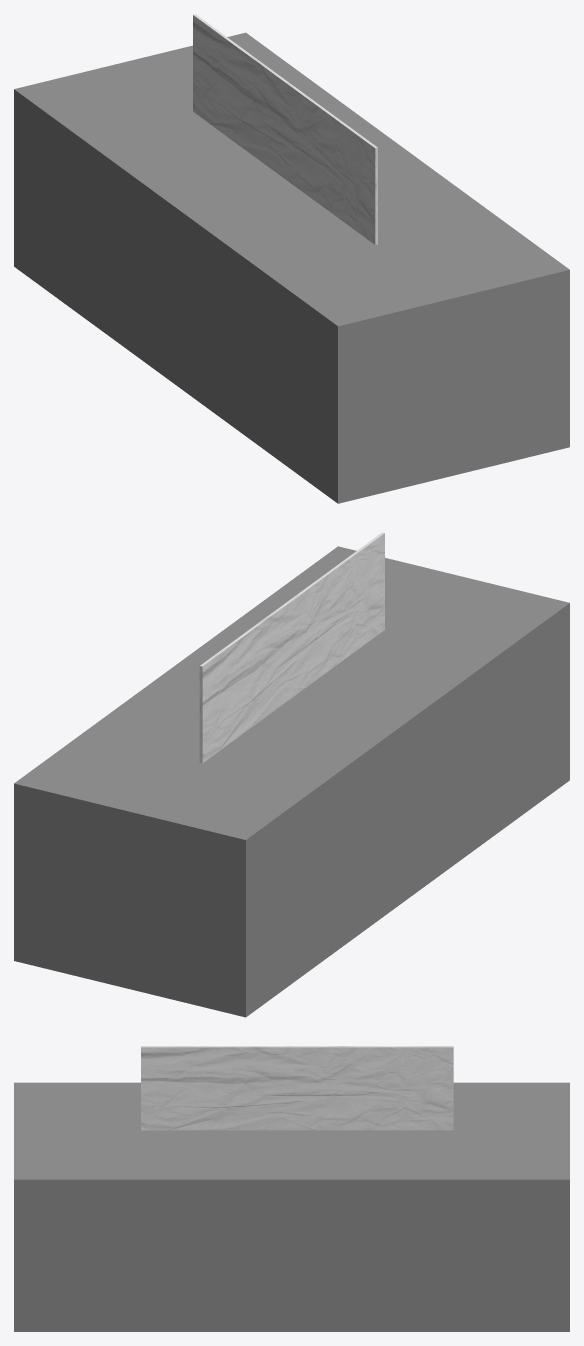
The model's file is TissueBox.FBX.
3 views of the same model, one above another, from view 1: azimuth 30°, elevation 25°; view 2: azimuth 150°, elevation 25°; view 3: azimuth 270°, elevation 25° (orthographic). The views are drawn at different scales.
Visible parts, largest first — view 1: Box001, Box002; view 2: Box001, Box002; view 3: Box001, Box002.
Boxes of the visible parts, x1=… form: Box001: x1=14, y1=32, x2=569, y2=503; Box002: x1=193, y1=14, x2=377, y2=244; Box001: x1=14, y1=546, x2=569, y2=1017; Box002: x1=199, y1=532, x2=384, y2=763; Box001: x1=14, y1=1082, x2=569, y2=1331; Box002: x1=141, y1=1046, x2=453, y2=1130.
Size of the model in its own units: 19.33 by 21.85 by 46.79.
2 materials, 1 textured.
